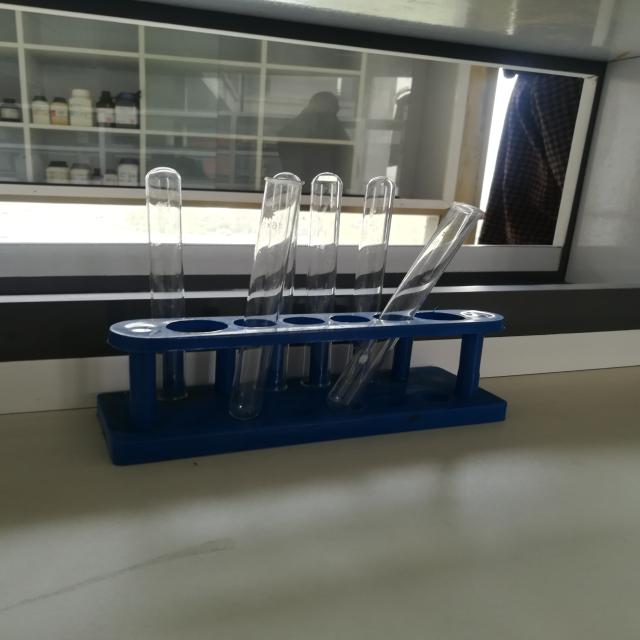Test_Tube: (112, 118, 535, 443)
